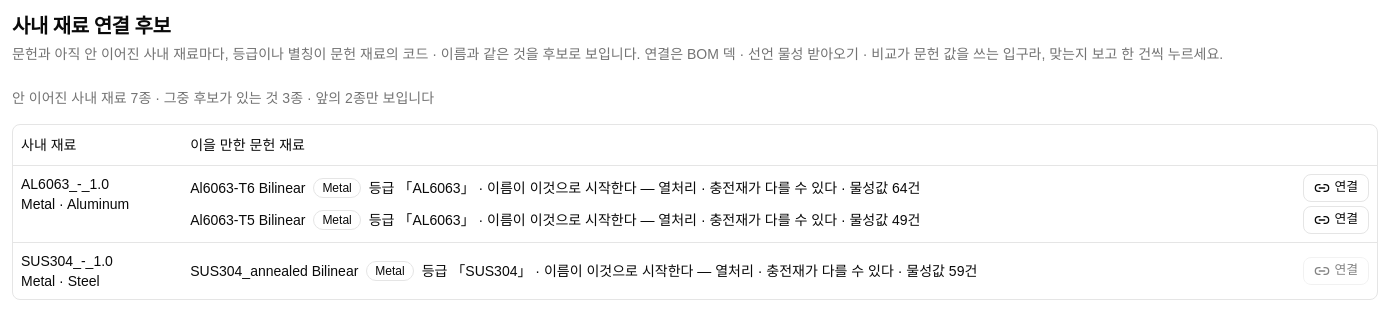
Scenario: 사내 재료 연결 후보 › 한 건씩 잇고, 이은 줄은 그 자리에 남아 되돌릴 수 있다
Click the button with aria-label "AL6063_-_1.0 을 Al6063-T6 Bilinear 에 연결".
click(1336, 188)  # box [1304,174,1369,202]
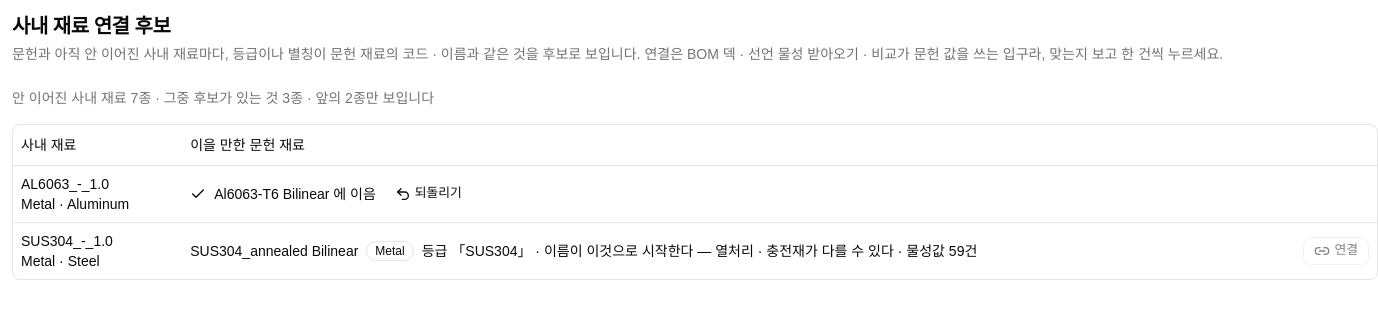
Check: the text "Al6063-T6 Bilinear 에 이음" is shown, box [214,184,376,204]
Check: the link "Al6063-T5 Bilinear" is gone
Click the button "되돌리기".
click(428, 194)  # box [384,180,473,208]
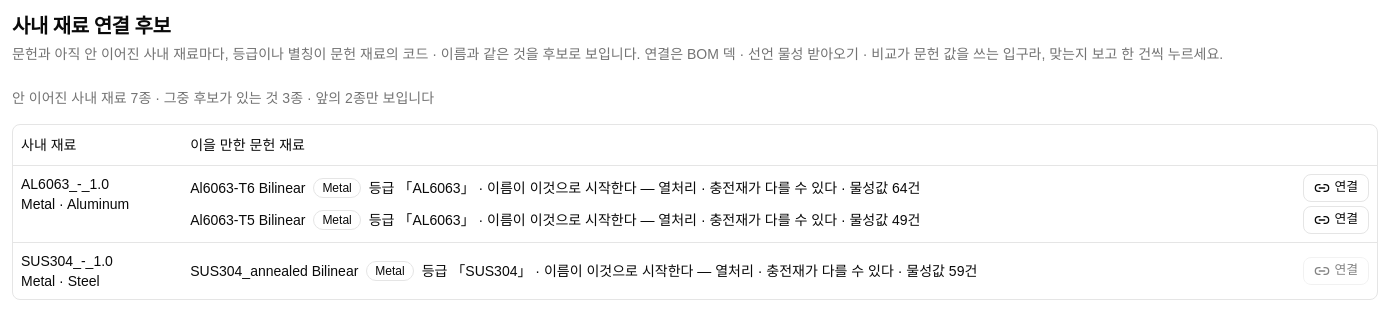
Check: the link "Al6063-T5 Bilinear" is shown, box [190,210,305,230]
